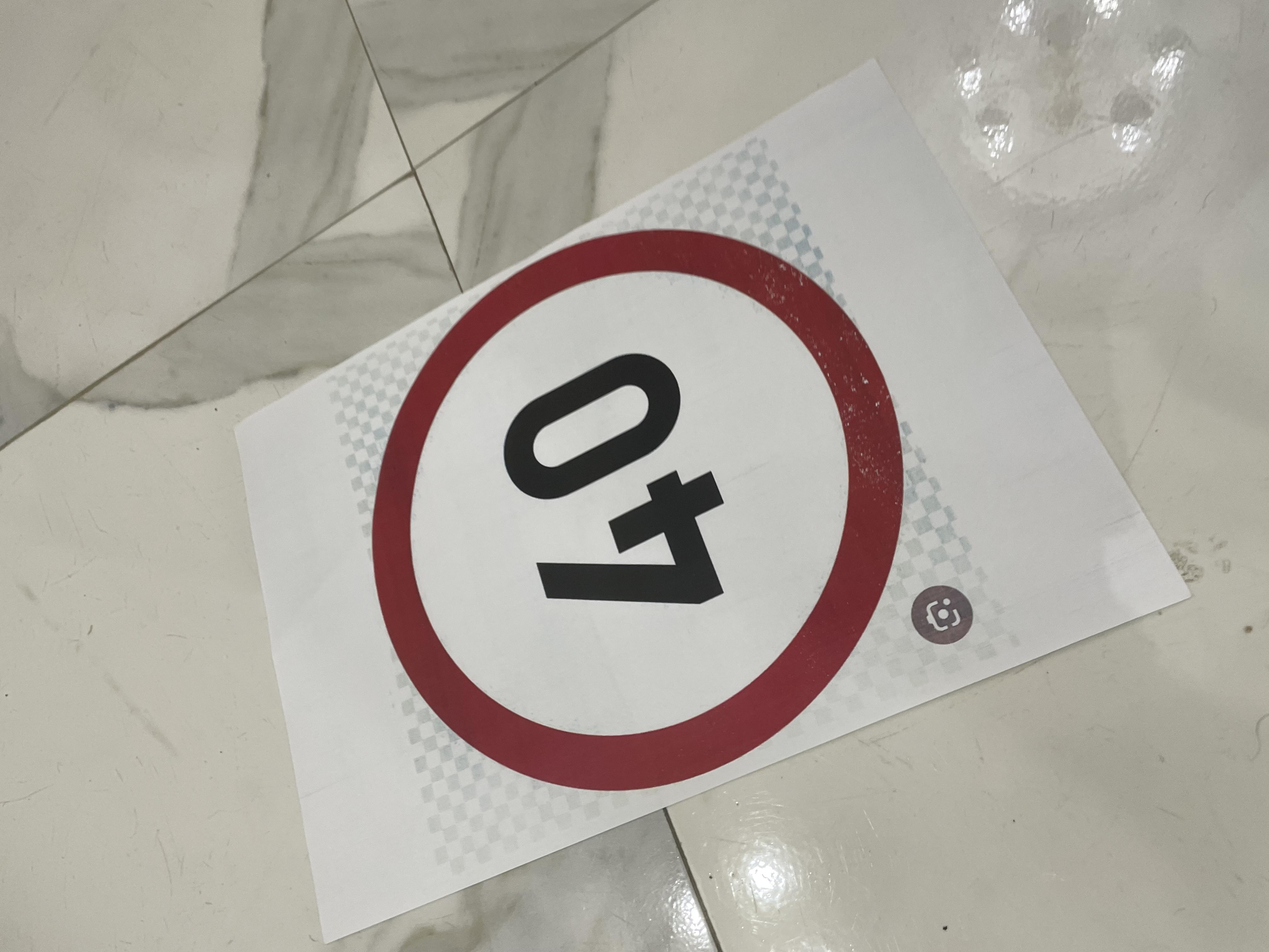40-Speed: (194, 267, 999, 687)
